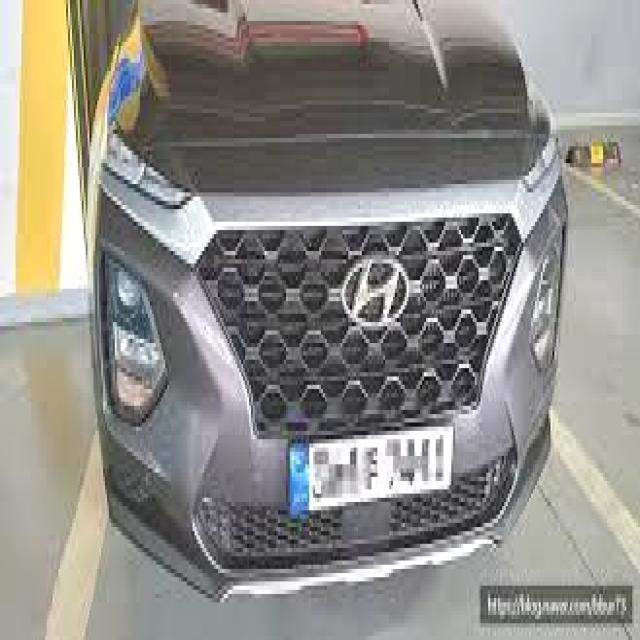illegal_plate: (285, 416, 456, 516)
